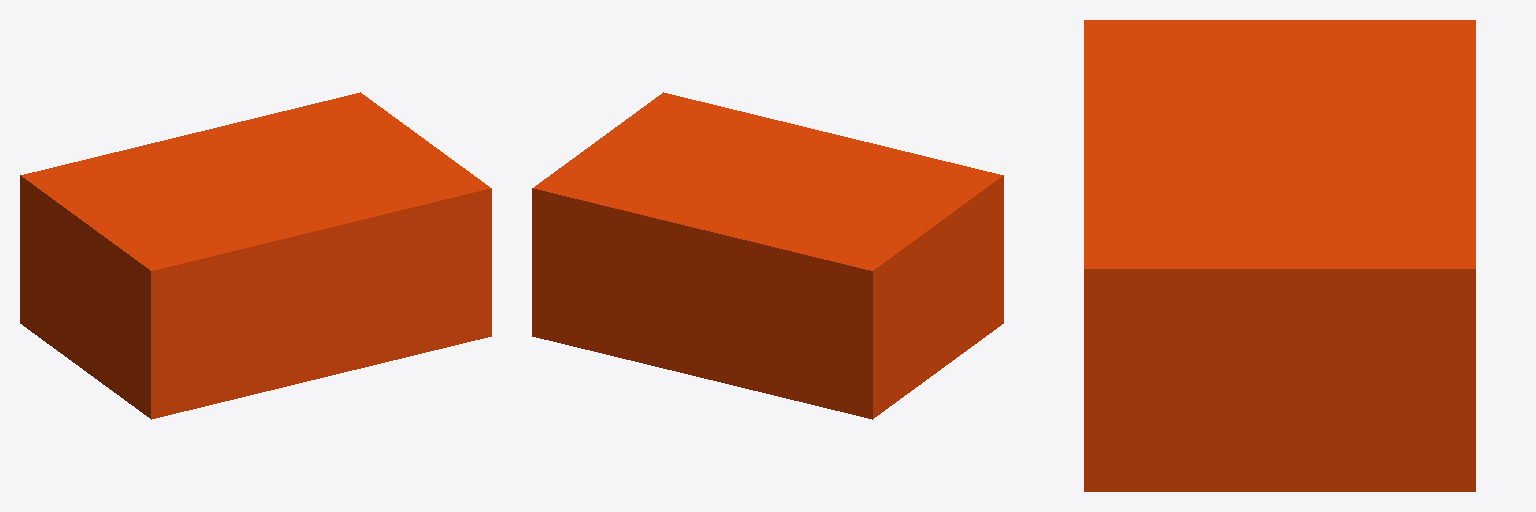
The robot description file, URDF, robot "dvrk_pybullet_grasp_block":
<?xml version="1.0"?>
<!-- SPDX-License-Identifier: Apache-2.0 -->
<robot name="dvrk_pybullet_grasp_block">
  <link name="block">
    <inertial>
      <origin xyz="0 0 0" rpy="0 0 0"/>
      <mass value="0.010"/>
      <inertia ixx="0.00000035" ixy="0" ixz="0" iyy="0.00000056" iyz="0" izz="0.00000069"/>
    </inertial>
    <visual>
      <geometry><box size="0.024 0.016 0.010"/></geometry>
      <material name="block_orange"><color rgba="0.95 0.34 0.08 1"/></material>
    </visual>
    <collision><geometry><box size="0.024 0.016 0.010"/></geometry></collision>
    <contact><lateral_friction value="1.0"/></contact>
  </link>
</robot>

--- What the picture shows (computed from the rendered views, not written in the file) ---
3 views of the same robot in one strip: view 1: azimuth 30°, elevation 25°; view 2: azimuth 150°, elevation 25°; view 3: azimuth 270°, elevation 25° (orthographic).
Robot: dvrk_pybullet_grasp_block — 1 links, 0 joints (none); root link block; default pose: every joint at zero.
Visible links, largest first — view 1: block; view 2: block; view 3: block.
Boxes of the visible links, <box> form: block: <box>20,92,491,419</box>; block: <box>532,92,1003,419</box>; block: <box>1084,20,1475,491</box>.
Bounding box of the posed robot: 0.024 × 0.016 × 0.01 m (x, y, z).
Geometry: primitives only (box / cylinder / sphere), no mesh files.
